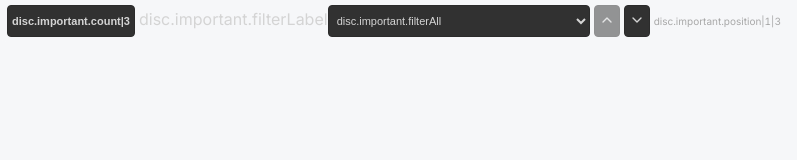
it: ImportantMessagesBar › cannot walk past either end
The image size is (797, 160).
expect the text "disc.important.position|1|3" is shown: met, box [654, 15, 781, 27]
expect the button named "disc.important.previous" is disabled: met, box [594, 5, 620, 37]
Step 1. Click the button named "disc.important.next" → (637, 21), box [624, 5, 650, 37]
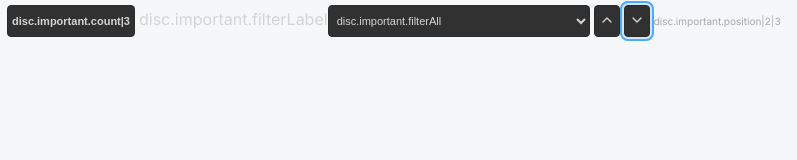
Step 2. Click the button named "disc.important.next" → (637, 21), box [624, 5, 650, 37]
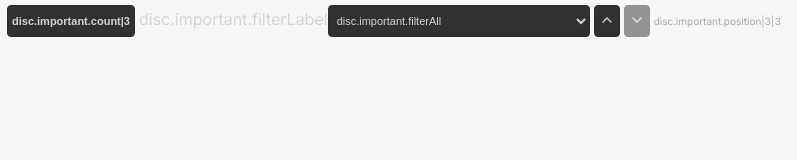
expect the button named "disc.important.next" is disabled: met, box [624, 5, 650, 37]
